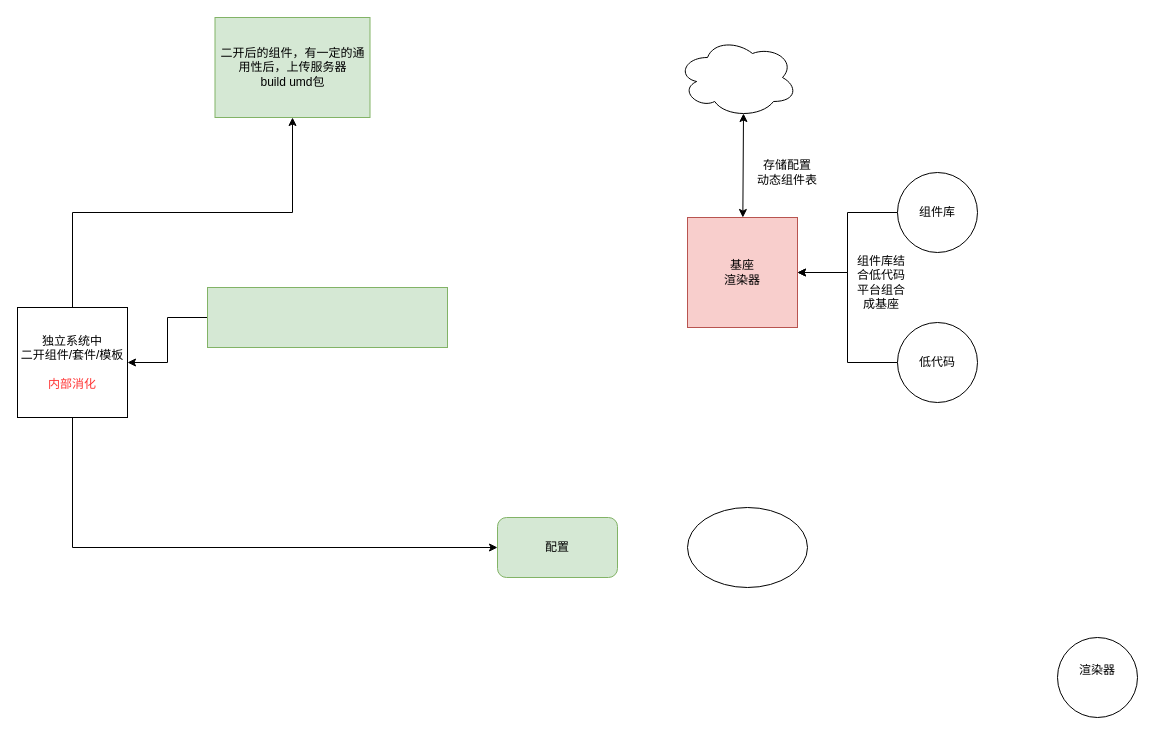
This 1155x735 diagram has some shape labels left out. Each missing label, with the centre of its shape:
服务器: point 737,77
独立系统 安装基座 考虑到系统的类型，除了基础的，很多都是不通过的组件: point 327,317
页面内容: point 747,547
